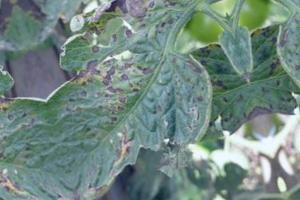Tomato Septoria leaf spot: (17, 0, 266, 200)
